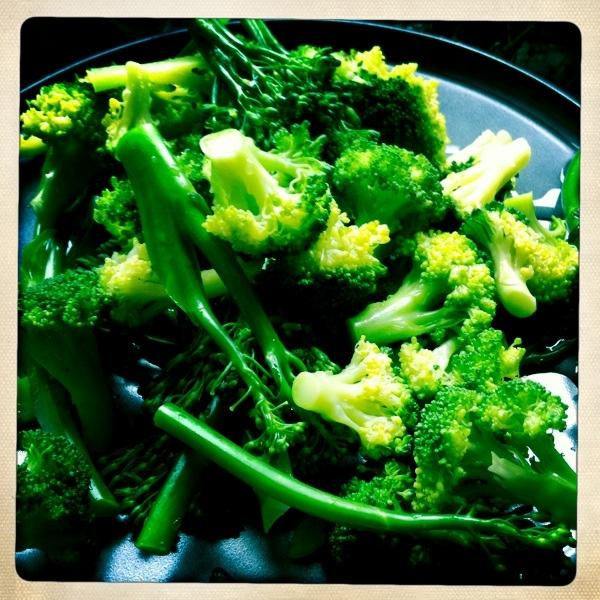broccoli: (114, 122, 359, 477), (153, 403, 577, 573), (183, 17, 381, 166), (20, 268, 166, 458), (411, 379, 577, 530), (198, 128, 332, 259), (347, 232, 498, 346), (327, 46, 450, 182), (292, 335, 420, 461), (27, 353, 122, 516), (91, 238, 266, 326), (20, 81, 108, 230), (331, 136, 448, 236), (282, 197, 391, 294), (328, 456, 416, 562), (458, 199, 536, 318), (503, 190, 580, 304), (440, 137, 531, 221), (16, 430, 93, 523), (97, 62, 161, 163), (85, 49, 215, 98), (433, 328, 504, 394), (398, 335, 464, 403), (92, 176, 145, 244), (562, 147, 580, 252)
